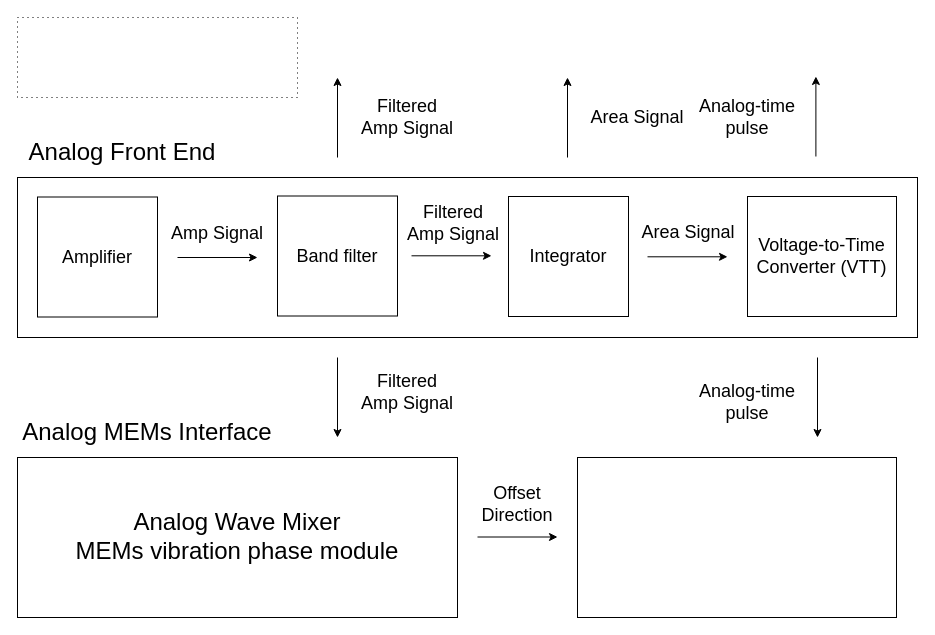
The diagram is 935 pixels wide and 635 high, and some of its shapes have lost their labels. The shapes that lost their labels are listed below. From the top down, each one's centre as x and y in pixels, then its label:
point (157, 57): Analog Domain
point (736, 537): Digital Domain
